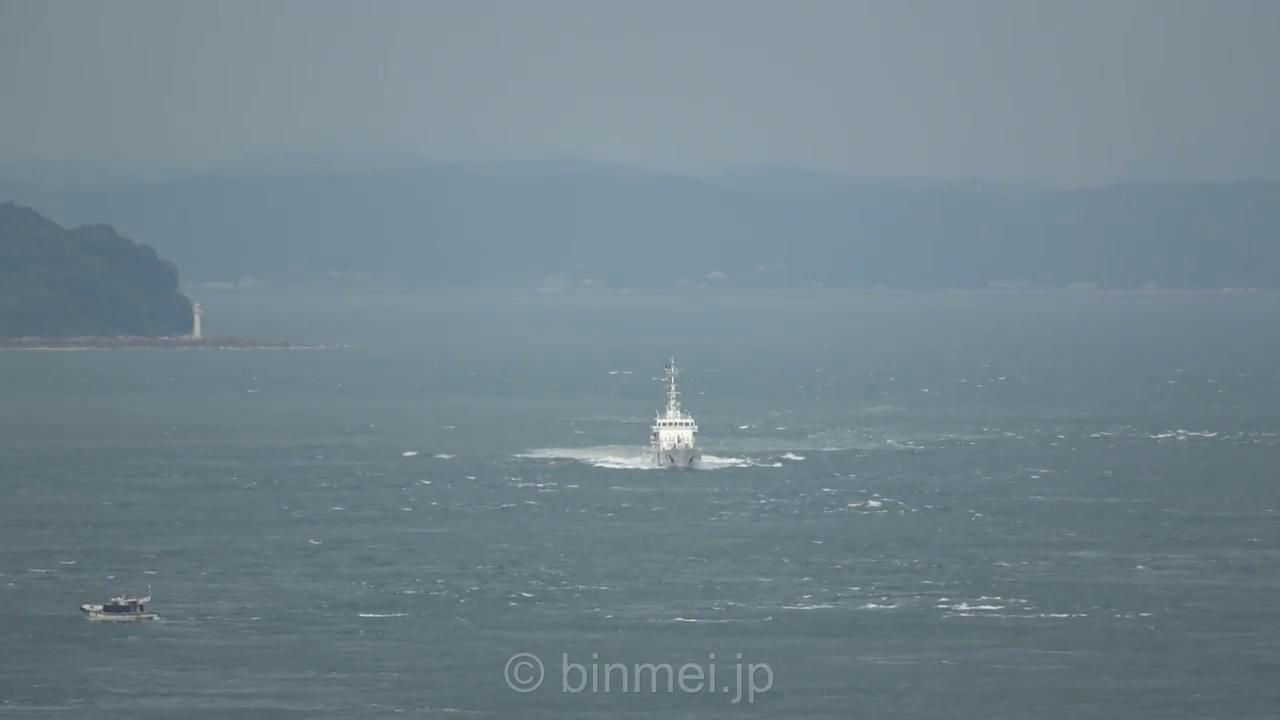Ship: (88, 581, 159, 624)
